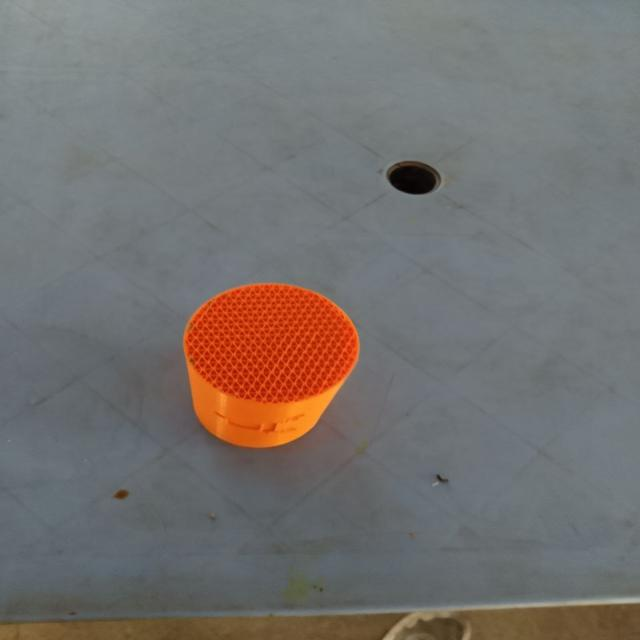Cylinder: (181, 282, 360, 448)
